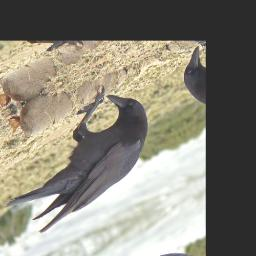Crow: (0, 70, 171, 245)
